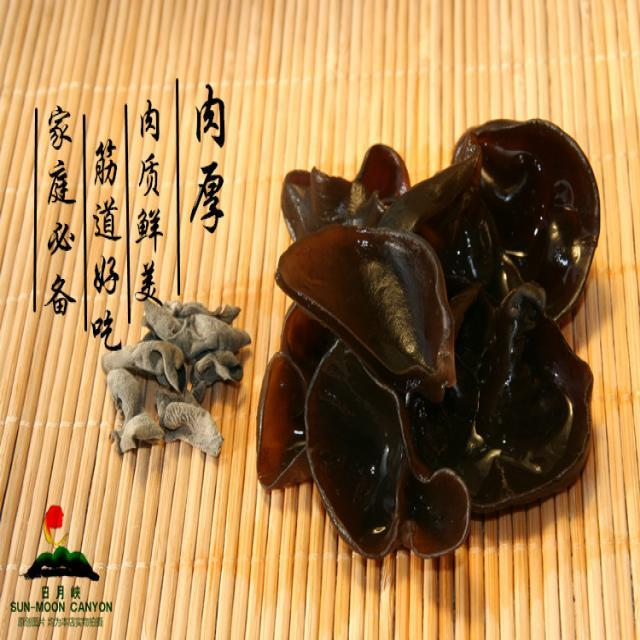Auricularia auricula: (257, 117, 600, 556), (102, 297, 250, 465)
